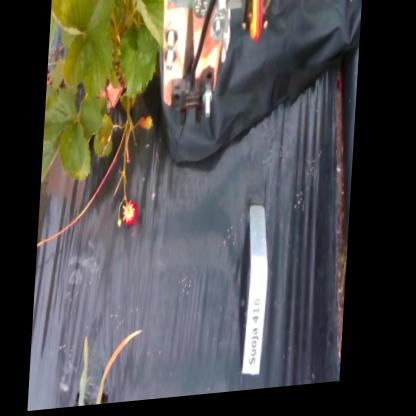ripe: (122, 199, 146, 234)
